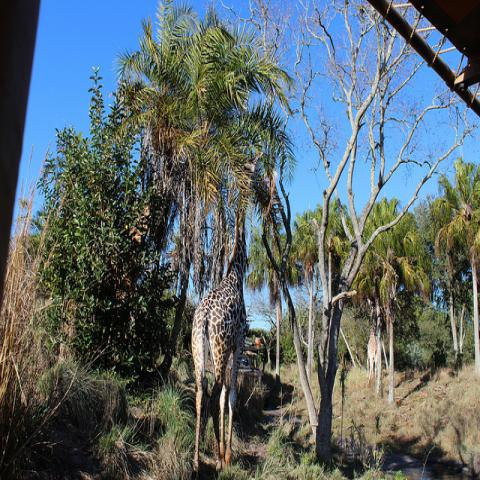car: (224, 352, 264, 403)
